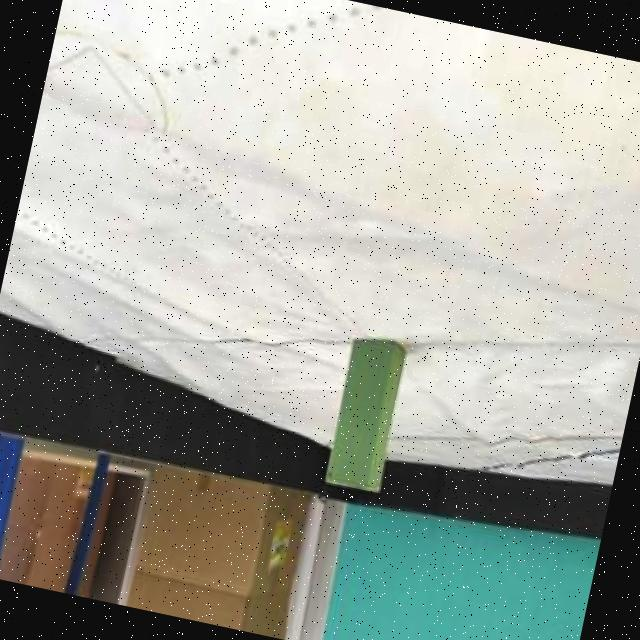greenbox: (321, 332, 408, 494)
